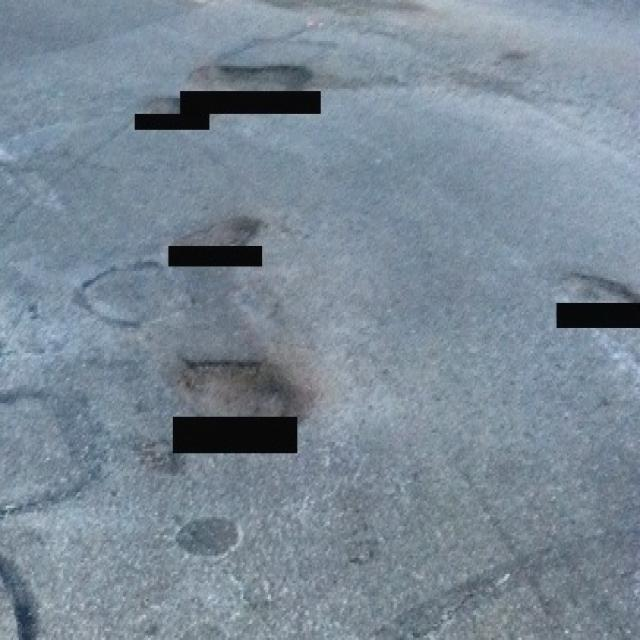road-pothole: (170, 347, 298, 419), (181, 55, 318, 92)
